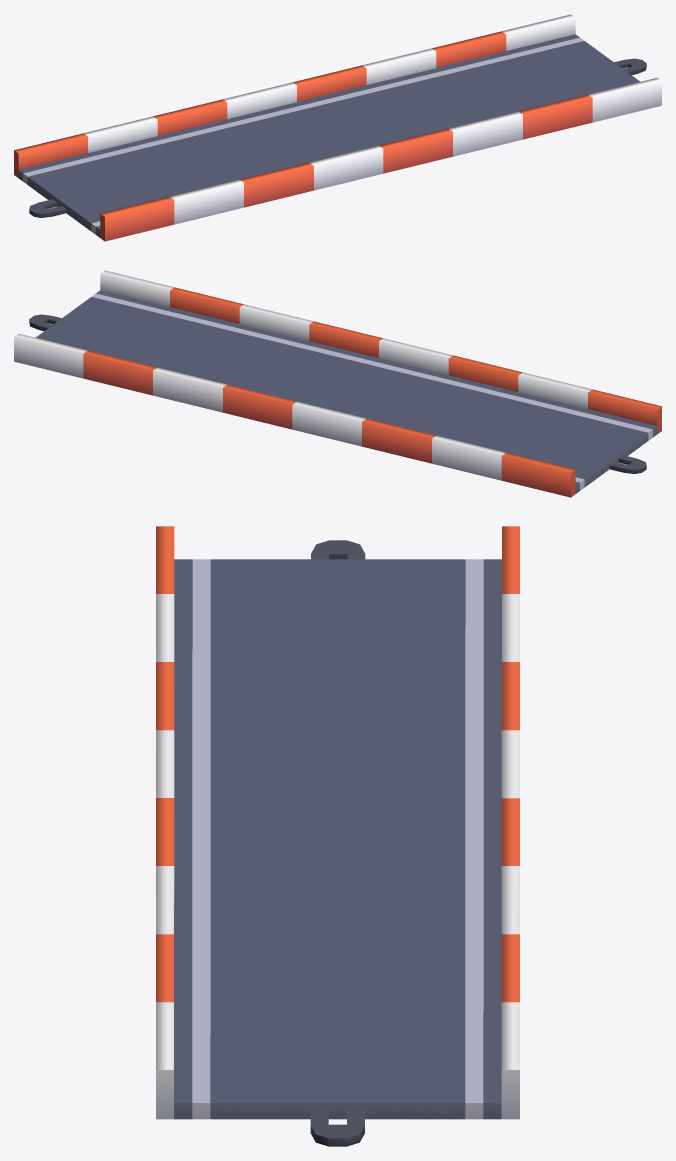
Rendered from track-road-wide-straight.001.glb.
3 renders of one model, top to bottom at view 1: azimuth 30°, elevation 25°; view 2: azimuth 150°, elevation 25°; view 3: azimuth 270°, elevation 25°, orthographic. The views are drawn at different scales.
Visible parts, largest first — view 1: track-road-wide-straight.001; view 2: track-road-wide-straight.001; view 3: track-road-wide-straight.001.
Part boxes in pixels (x1,y1,x2,y2): track-road-wide-straight.001: [14, 14, 661, 241]; track-road-wide-straight.001: [14, 270, 661, 497]; track-road-wide-straight.001: [156, 526, 519, 1146].
Bounding box in the file's own units: 7.77 × 0.3 × 2.
Materials: 1 (1 with a texture image).
